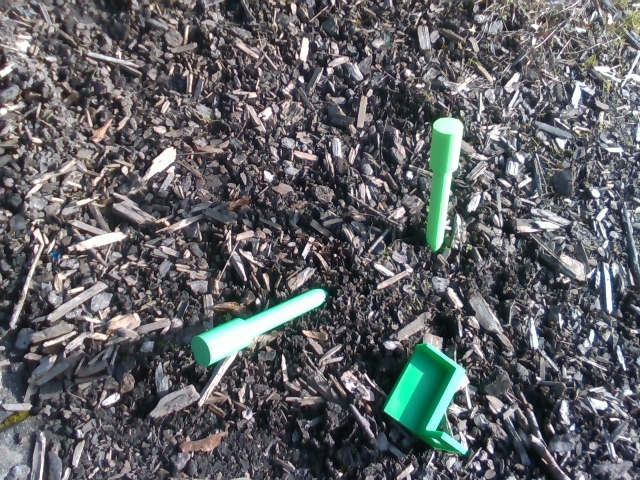Probe: (187, 281, 340, 372), (421, 112, 468, 269)
